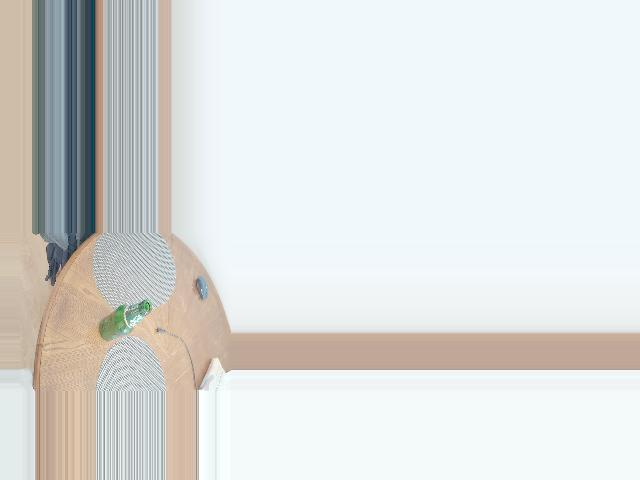beer: (98, 299, 151, 343)
